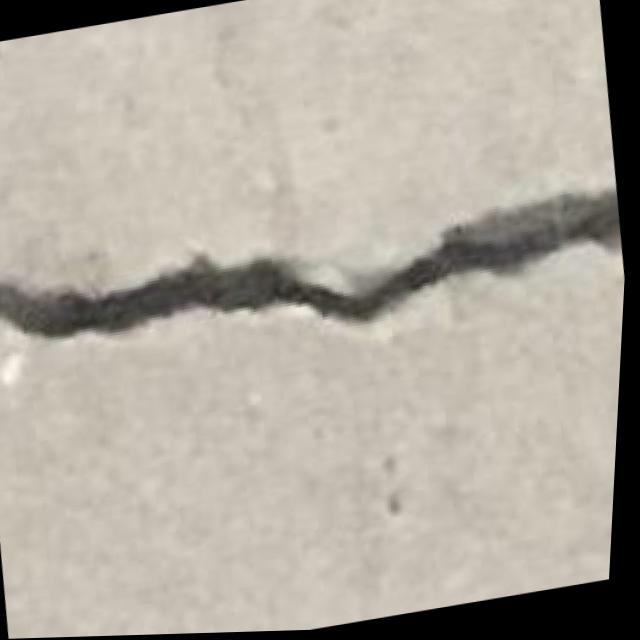Crack: (0, 144, 634, 430)
